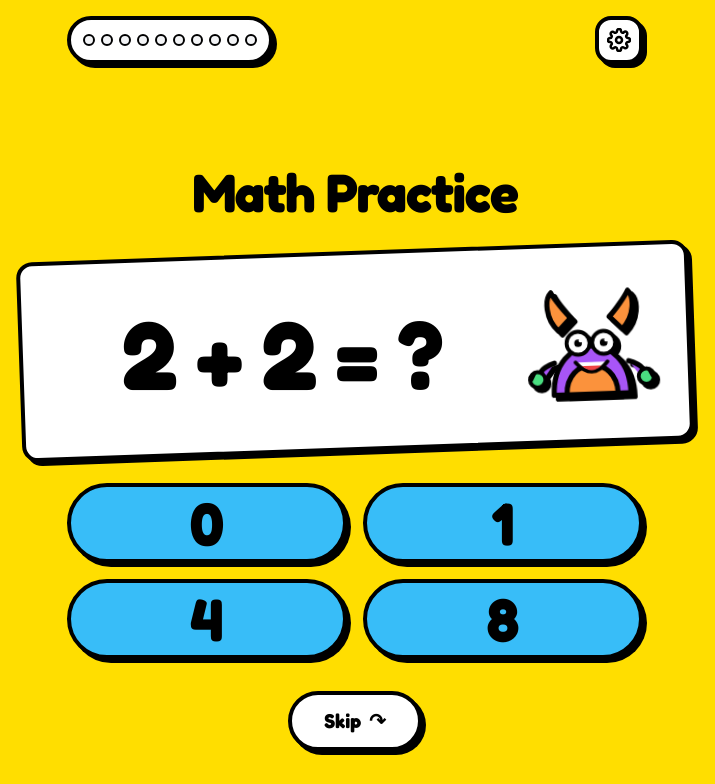
Home Page answer feedback › keeps a wrong pick marked and disabled while the rest stay tappable
The width and height of the screenshot is (715, 784).
Click the button "0". click: x=207, y=523
box: [67, 483, 347, 563]
Wait 800 ms
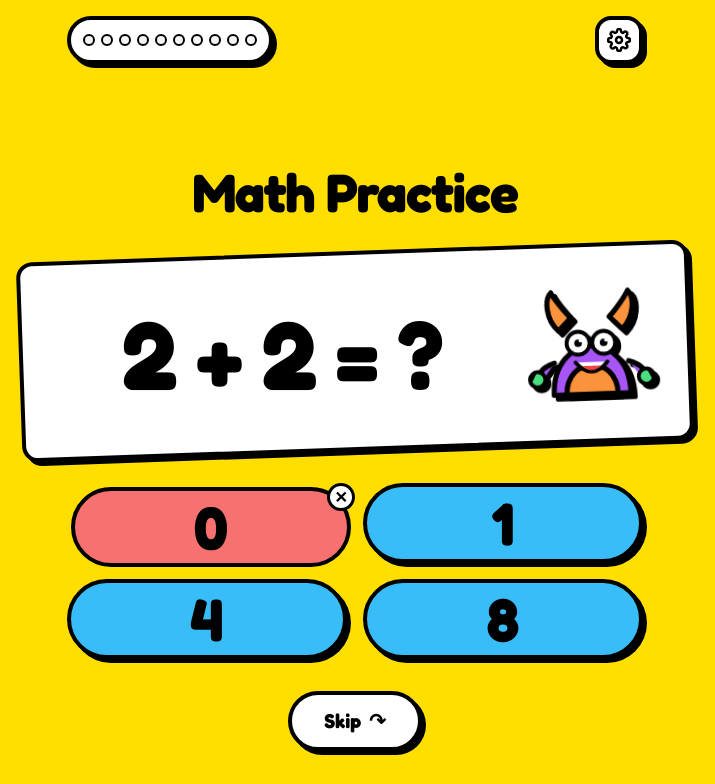
Check: the text with test id "equation-answer" reads "?", box [398, 294, 444, 412]
Check: the button "0 ✕" is disabled, box [71, 487, 351, 567]
Click the button "4". click: x=207, y=619
box: [67, 579, 347, 659]
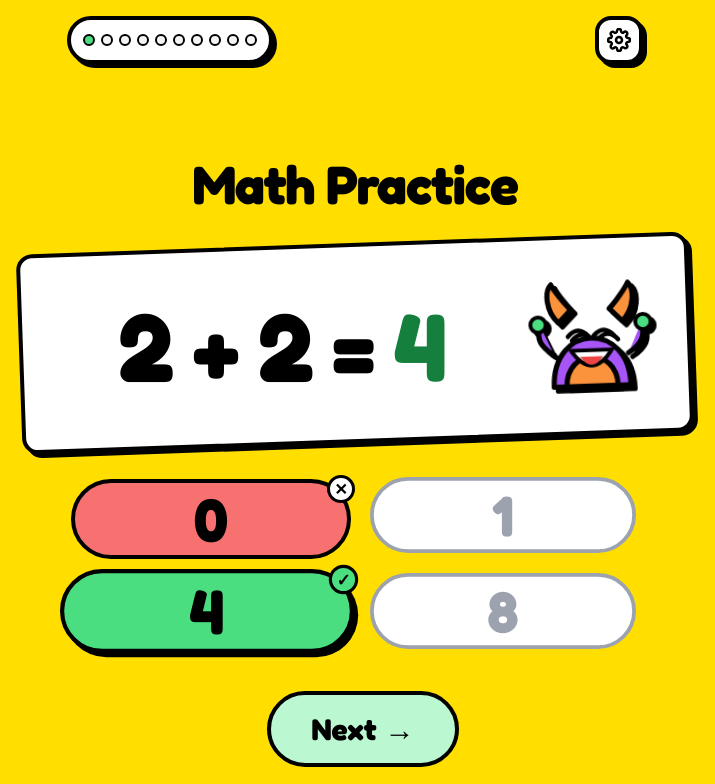
Check: the text with test id "equation-answer" reads "4", box [394, 286, 447, 404]
